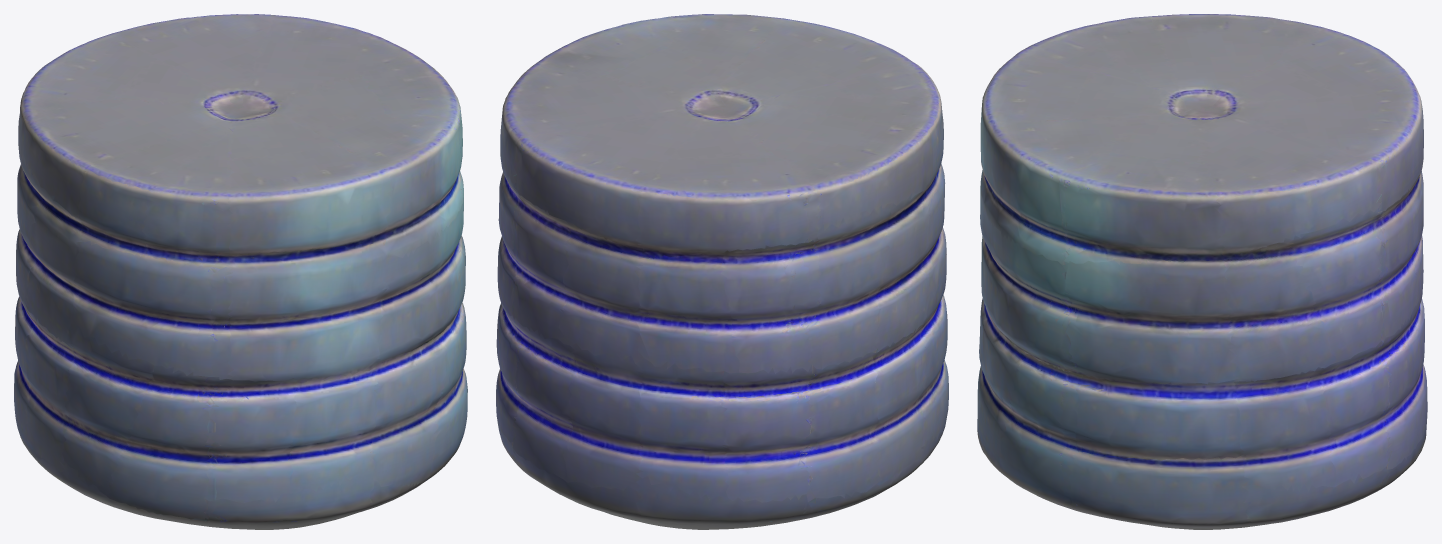
Rendered from database_l-transformed.glb.
3 views of the same model, side by side, from view 1: azimuth 30°, elevation 25°; view 2: azimuth 150°, elevation 25°; view 3: azimuth 270°, elevation 25° (orthographic).
Parts seen in each view (by area): view 1: Object_4; view 2: Object_4; view 3: Object_4.
Part boxes in pixels (box(x1,y1,x2,y2)): Object_4: box(14, 14, 467, 529); Object_4: box(496, 14, 948, 529); Object_4: box(977, 14, 1427, 529).
Bounding box in the file's own units: 0.7624 × 0.6961 × 0.772.
Materials: 1 (1 with a texture image).
